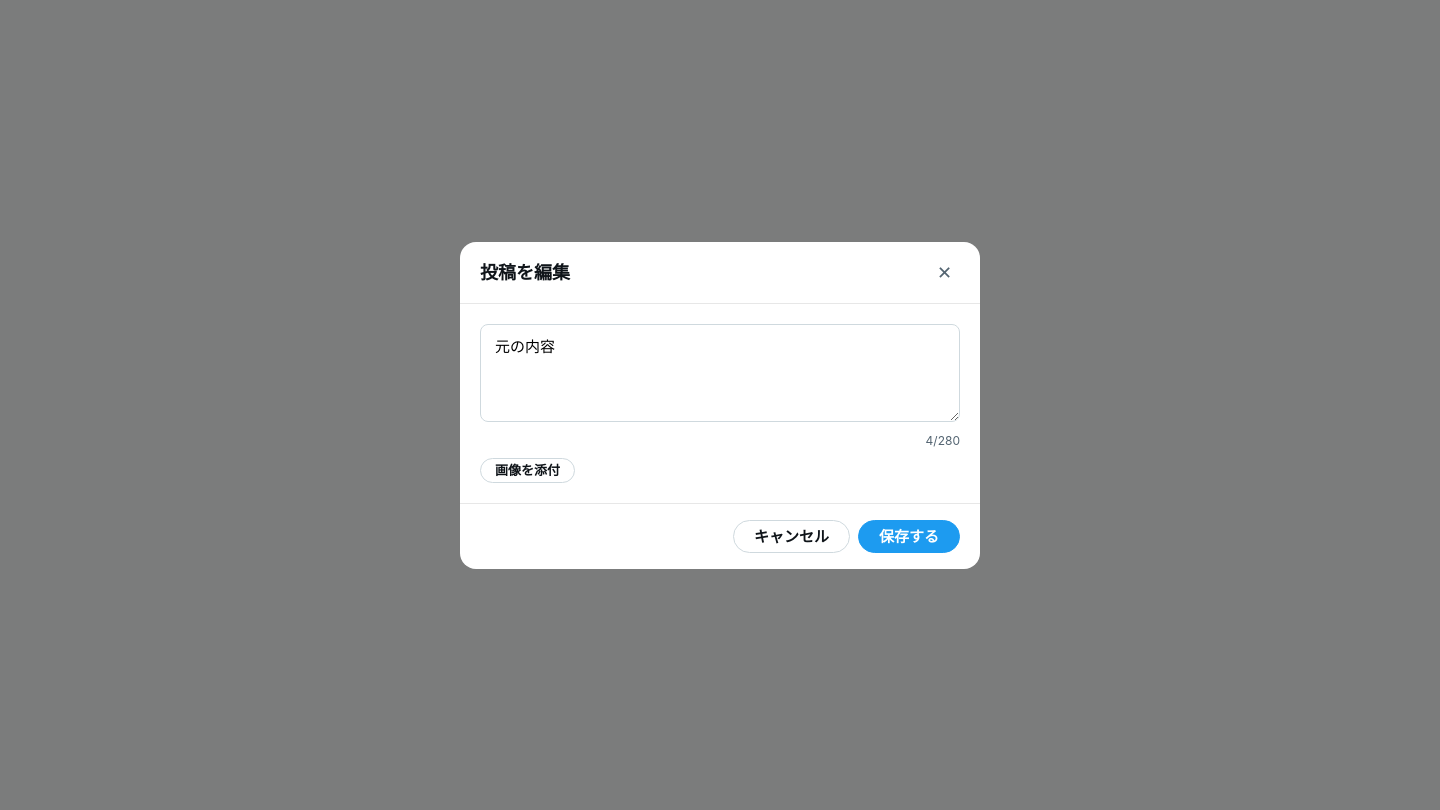
EditPostModal › 保存失敗（無効クラス：APIエラー）→ エラーメッセージが表示される
Click the button "保存する" at (909, 536), box [858, 520, 960, 552]
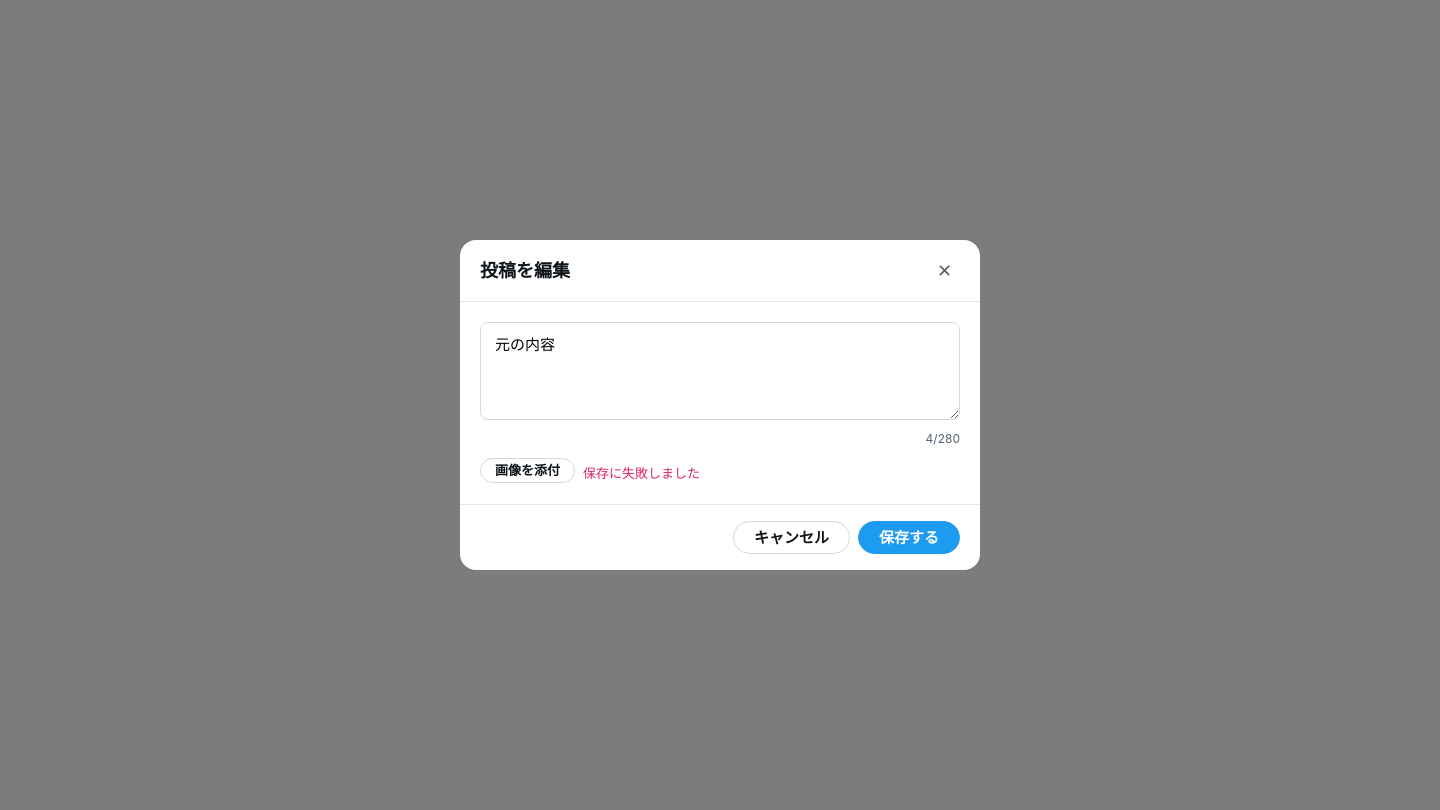
Now the text "保存に失敗しました" is shown, box [583, 464, 700, 484]
